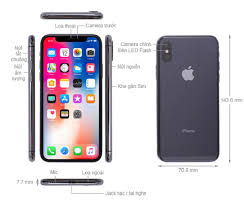iphone: (154, 33, 219, 162), (40, 31, 103, 161)
iphone10: (154, 32, 219, 161), (40, 30, 103, 160)
